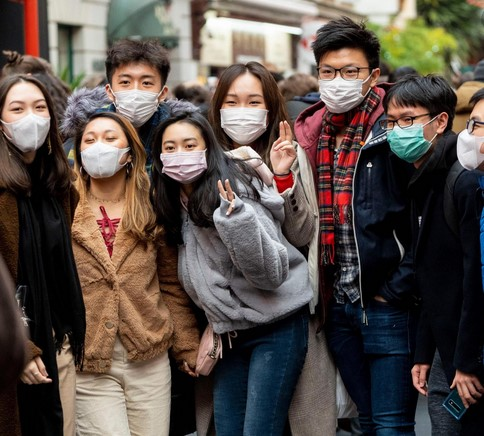face_with_mask: (310, 22, 382, 116), (208, 58, 280, 147), (377, 76, 449, 162), (104, 39, 170, 131), (156, 114, 217, 186), (76, 114, 138, 180), (4, 73, 52, 157), (458, 87, 479, 176)
